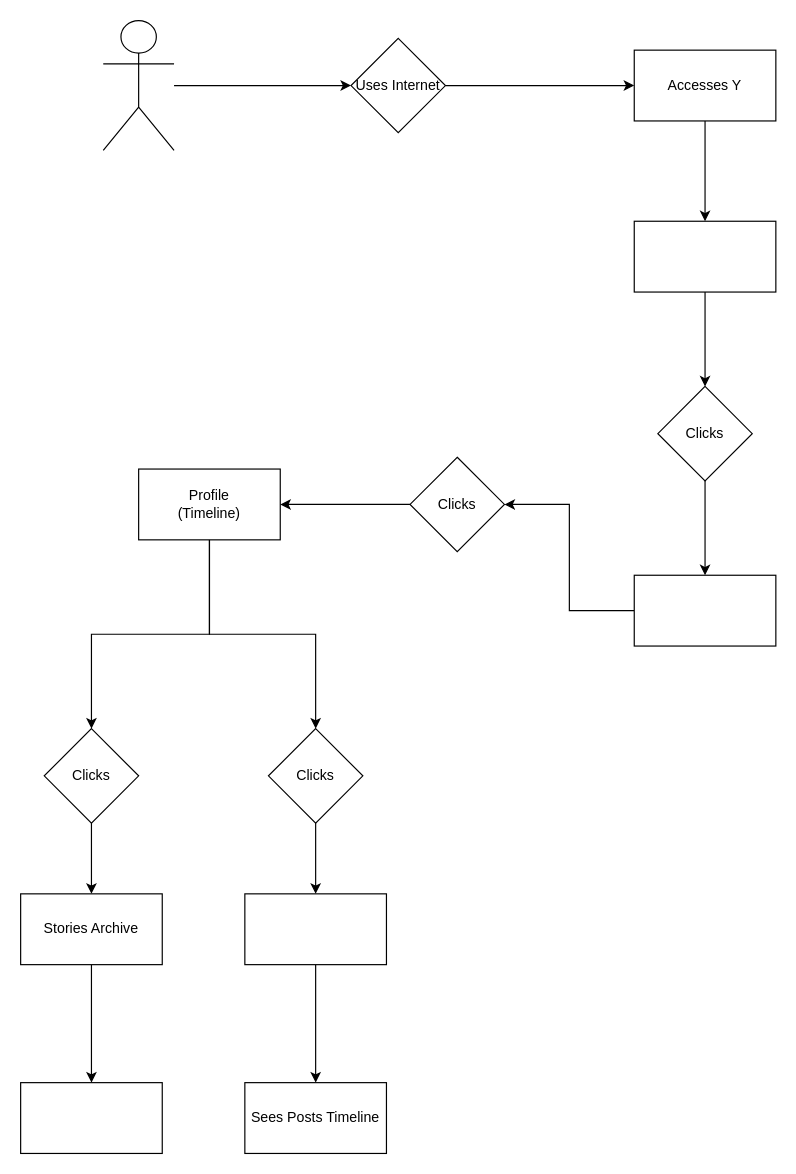
This 796x1174 diagram has some shape labels left out. The box of each missing label's shape, as (x1, y1, x2, y2) in pixels:
Actor: (102, 19, 174, 150)
Landing Page: (633, 220, 776, 292)
Log In: (633, 574, 776, 646)
Posts Archive: (244, 893, 386, 965)
Sees Story Timeline: (19, 1081, 162, 1153)
